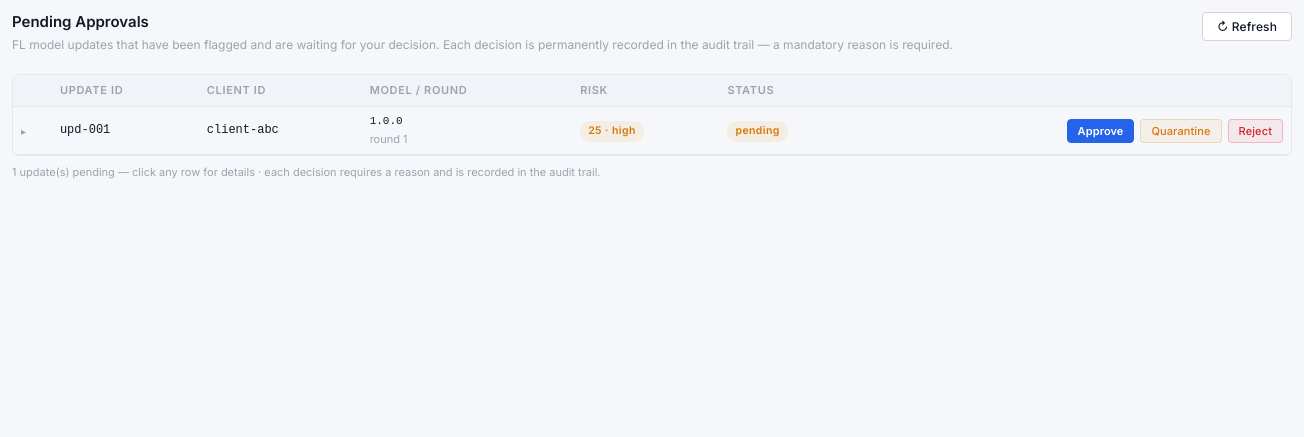
Approvals › opens confirmation panel on approve click
This screenshot has width=1304, height=437.
Click the button "Approve".
click(1101, 131)  # box top-left (1067, 119), bottom-right (1134, 143)
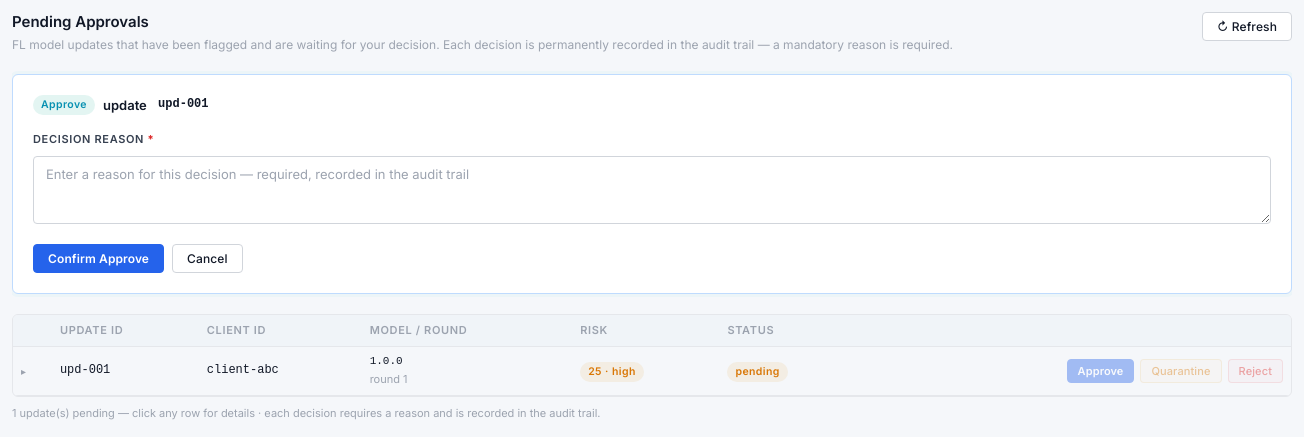
Now the button "Confirm Approve" is shown, box top-left (33, 244), bottom-right (164, 273)
Now the text box labelled "Decision Reason *" is shown, box top-left (33, 156), bottom-right (1271, 224)
